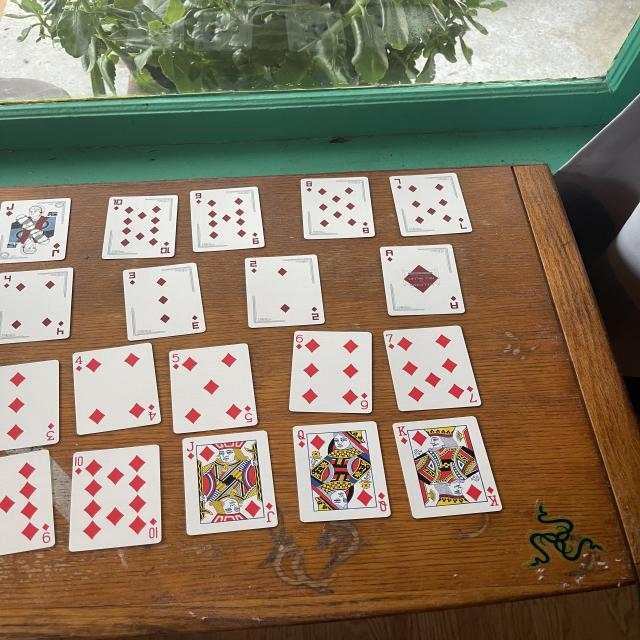10 of diamonds: (68, 445, 162, 552), (102, 195, 178, 259)
2 of diamonds: (245, 255, 325, 328)
3 of diamonds: (122, 262, 205, 340), (0, 360, 60, 450)
4 of diamonds: (73, 342, 162, 435), (0, 268, 73, 344)
5 of diamonds: (168, 344, 258, 434)
6 of diamonds: (290, 330, 372, 414)
7 of diamonds: (383, 326, 482, 411), (390, 172, 472, 236)
8 of diamonds: (300, 176, 375, 239)
9 of diamonds: (0, 450, 55, 555), (190, 186, 265, 252)
Ace of diamonds: (380, 245, 465, 315)
Jack of diamonds: (182, 431, 278, 535), (0, 198, 72, 264)
King of diamonds: (393, 416, 502, 519)
Queen of diamonds: (293, 422, 390, 521)
